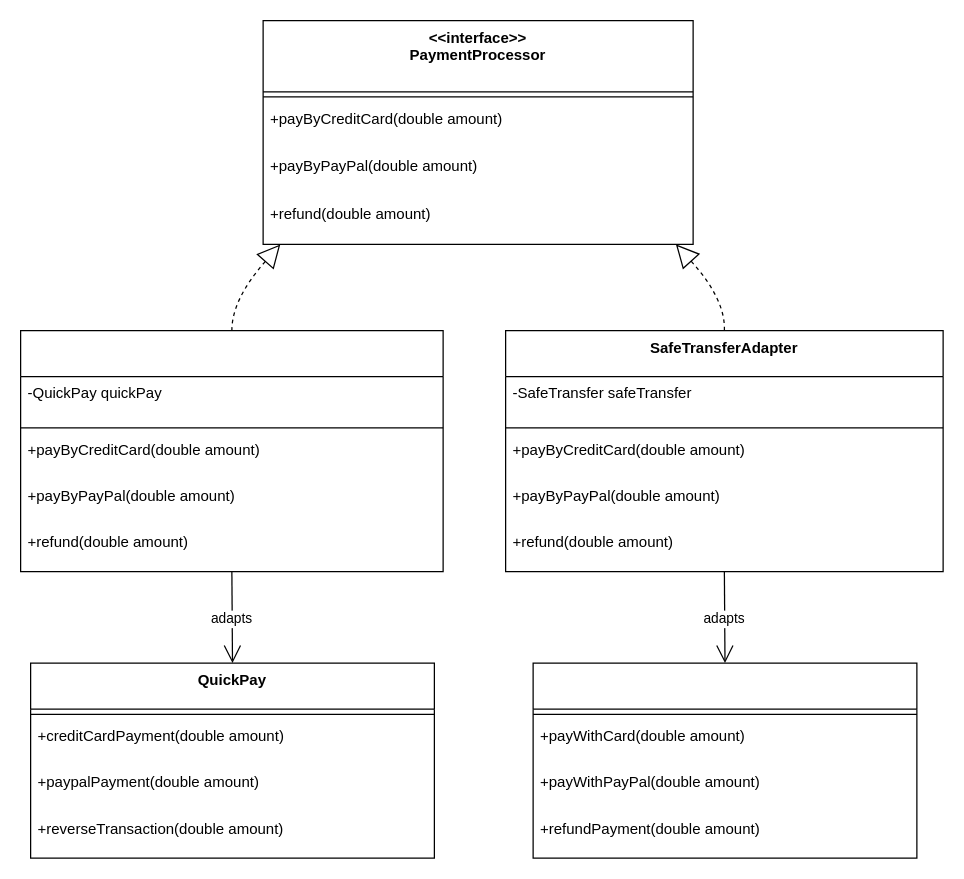
The diagram is 964 pixels wide and 879 high, and some of its shapes have lost their labels. Here are the shapes that lost their labels. From the top down, the box of each, then its label:
(19, 329, 443, 572): QuickPayAdapter
(532, 662, 917, 858): SafeTransfer
